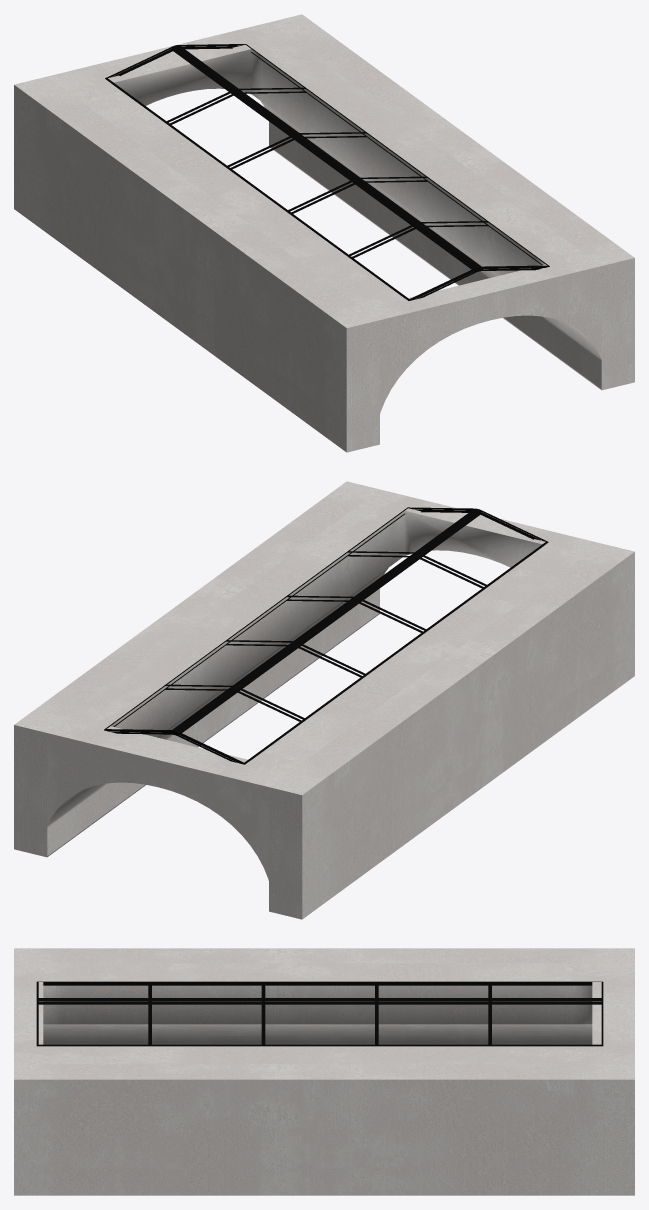
The model's file is CeilingArch.glb.
3 renders of one model, top to bottom at view 1: azimuth 30°, elevation 25°; view 2: azimuth 150°, elevation 25°; view 3: azimuth 270°, elevation 25°, orthographic. The views are drawn at different scales.
Visible parts, largest first — view 1: Cube.013; view 2: Cube.013; view 3: Cube.013.
Boxes of the visible parts, left/top/right/bottom form: Cube.013: left=14, top=14, right=634, bottom=452; Cube.013: left=14, top=481, right=634, bottom=919; Cube.013: left=14, top=948, right=634, bottom=1195.
Bounding box in the file's own units: 8 × 3.73 × 16.
2 materials, 1 textured.
